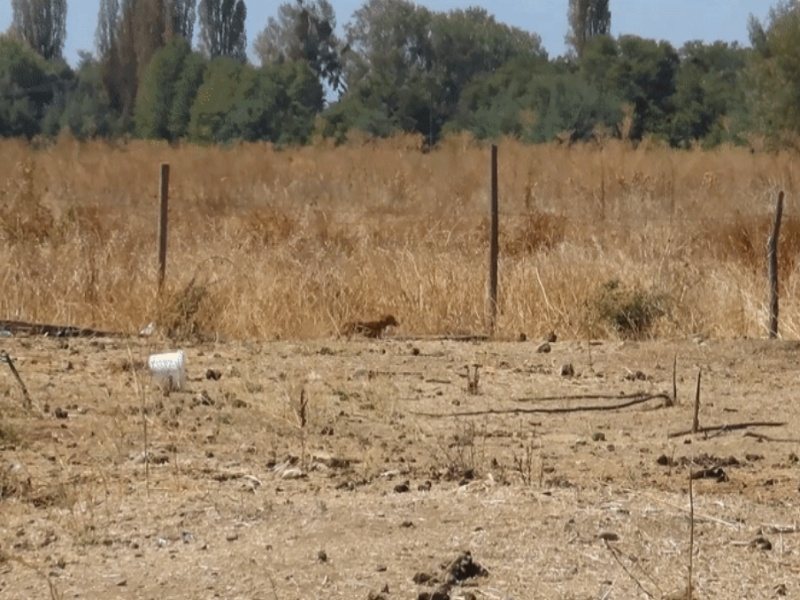dog: (338, 311, 401, 341)
